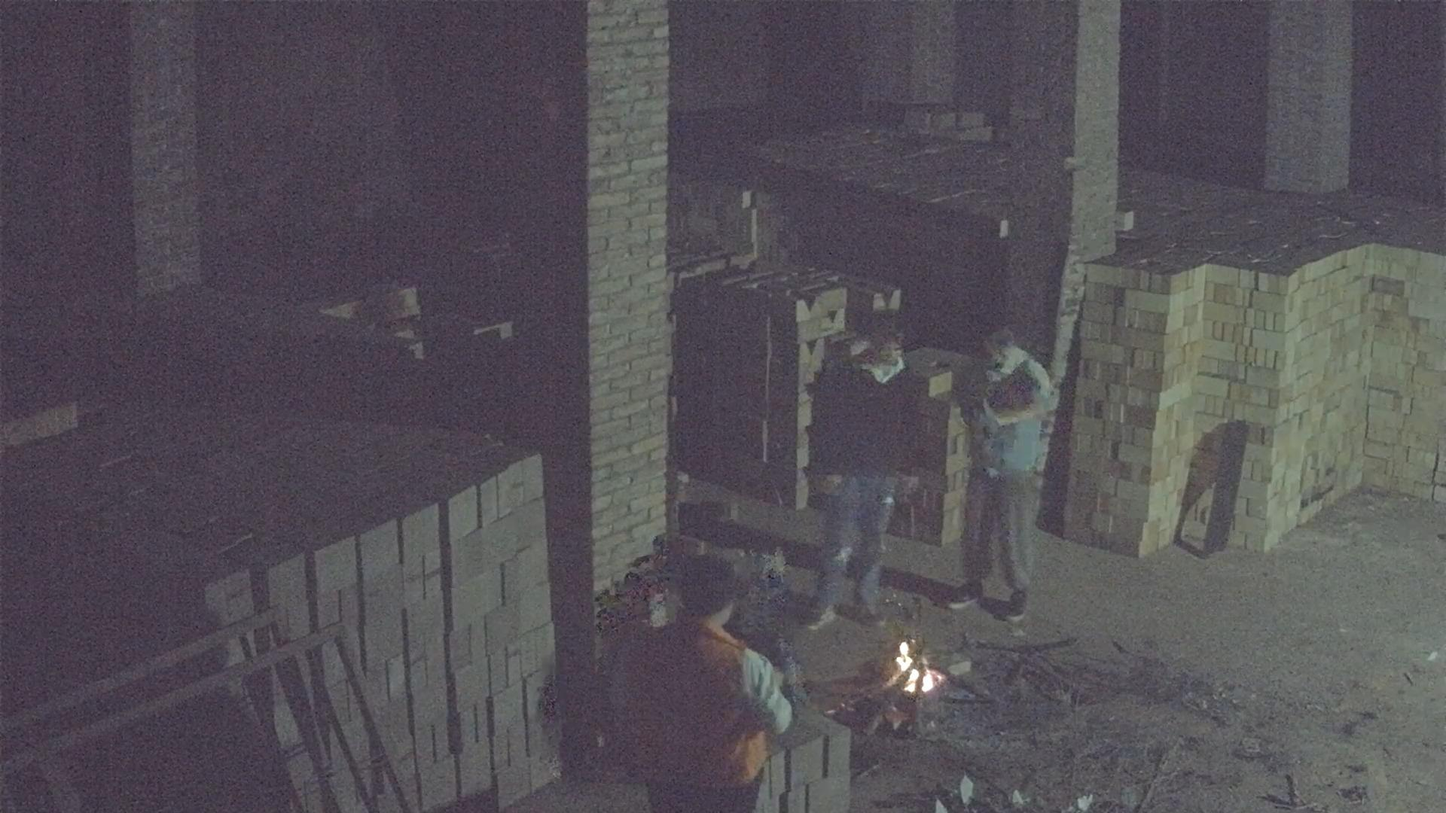fire: (883, 638, 941, 698)
